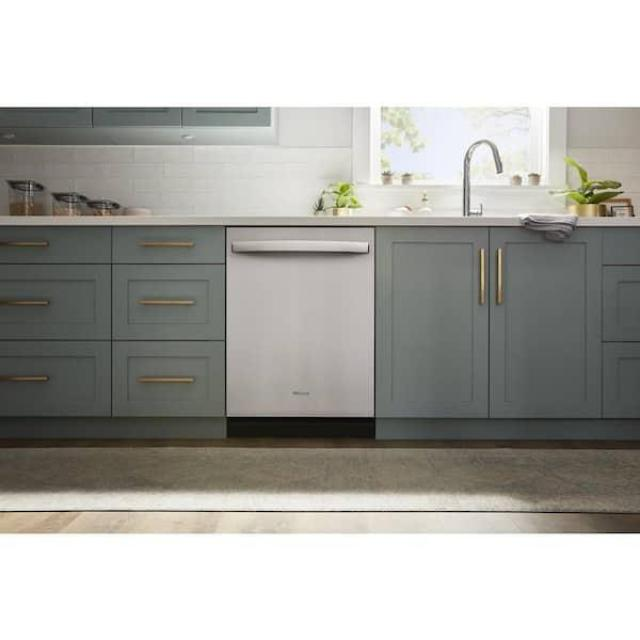dishwasher: (218, 214, 388, 441)
